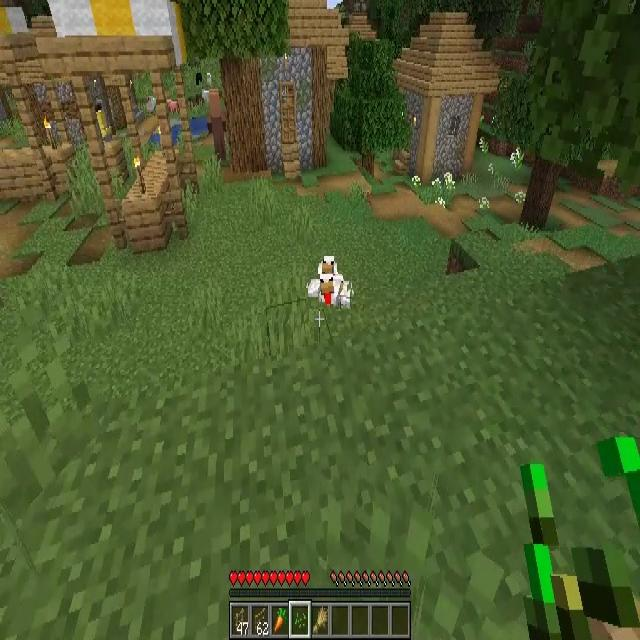duck: (308, 274, 352, 309), (317, 255, 338, 284)
sheep: (147, 96, 156, 114), (196, 72, 202, 87), (206, 72, 212, 86)
